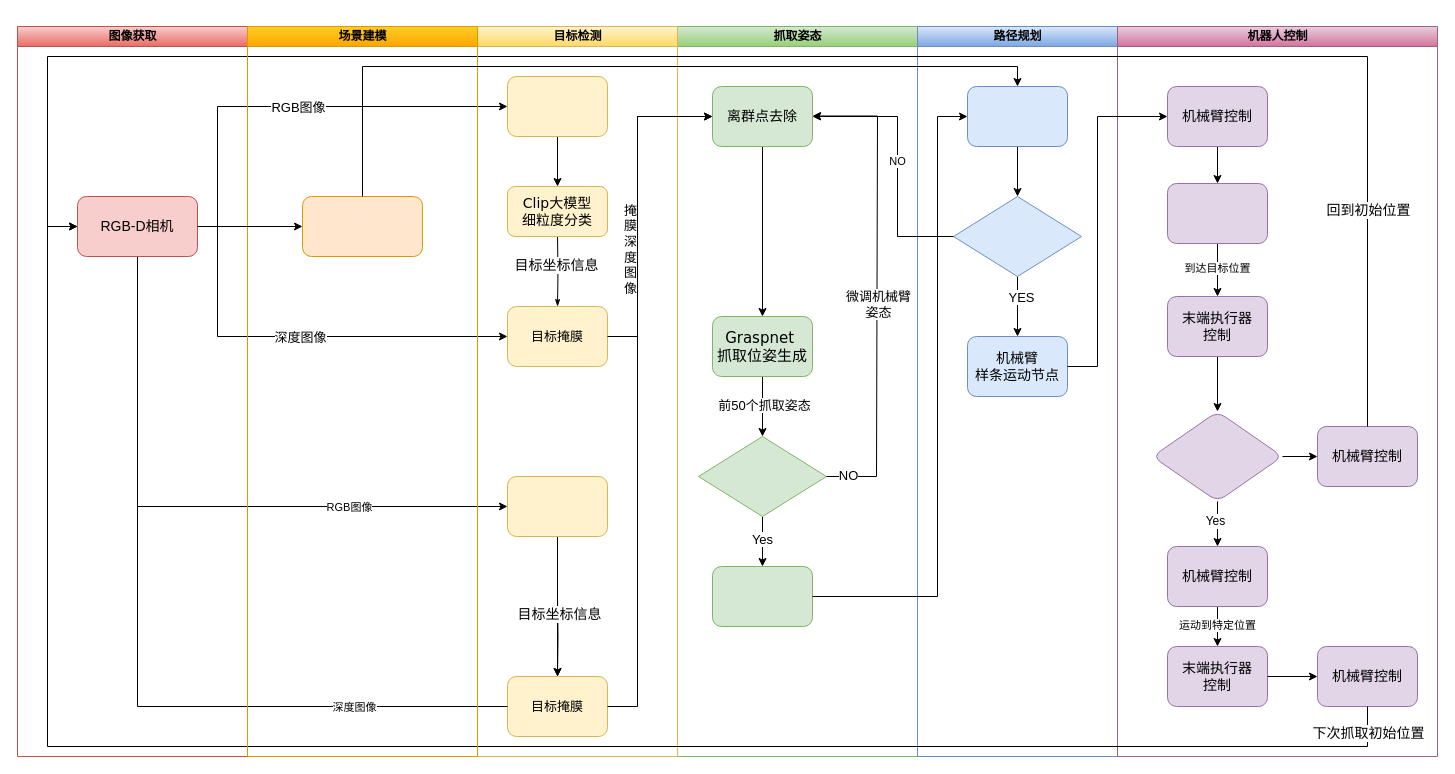
The diagram is 1455 pixels wide and 774 high, and some of its shapes have lost their labels. Here are the shapes that lost their labels. From the top down, the centre of each, then its label:
At pixel 557 106: "YOLOv10 粗粒度 目标检测".
At pixel 1017 116: "MoveIt! 路径规划".
At pixel 362 226: "BundleFusion建模".
At pixel 1217 213: "机械臂位置反馈".
At pixel 1017 236: "判断目标 位姿可达".
At pixel 762 476: "中心抓取判断".
At pixel 1217 456: "机械臂末端 负载反馈".
At pixel 557 506: "微调 Qwen2.5-vl 目标检测".
At pixel 762 596: "坐标变换".
